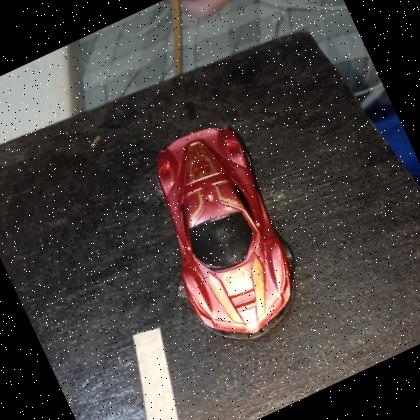Car: (158, 127, 293, 337)
